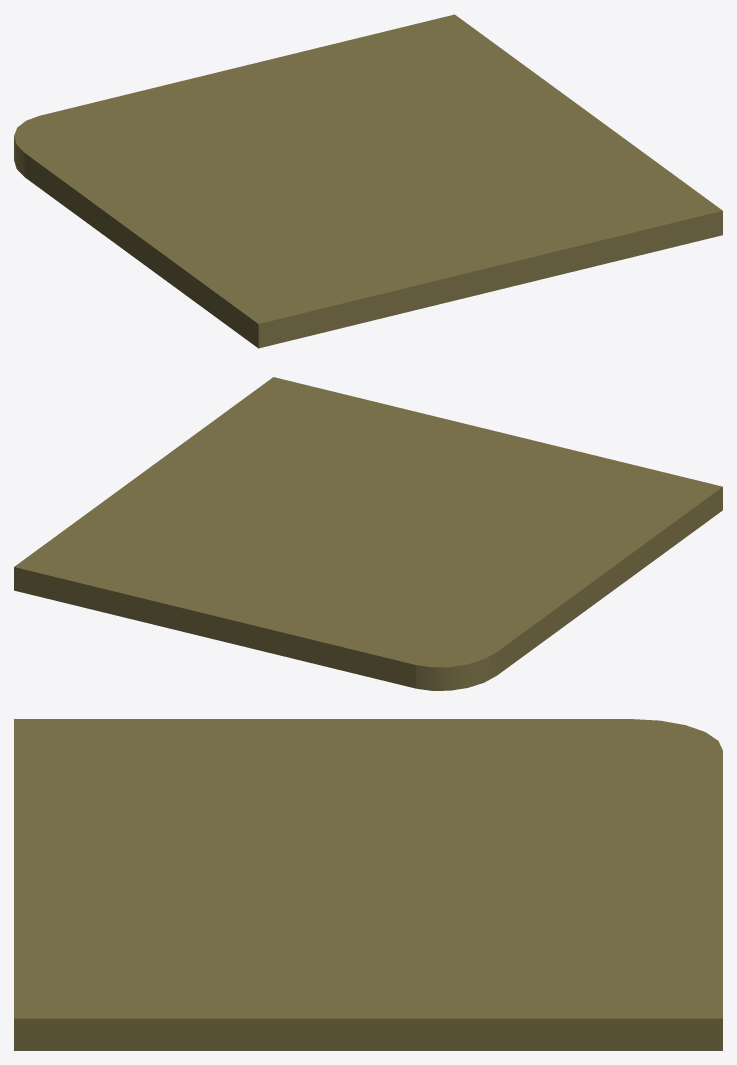
Rendered from Table_Border_01.fbx.
The picture shows the model from 3 angles, top to bottom: view 1: azimuth 30°, elevation 25°; view 2: azimuth 150°, elevation 25°; view 3: azimuth 270°, elevation 25°; orthographic projection. The views are drawn at different scales.
Parts seen in each view (by area): view 1: Table_Border_01; view 2: Table_Border_01; view 3: Table_Border_01.
Part boxes in pixels (bbox=[...]): Table_Border_01: bbox=[14, 14, 722, 348]; Table_Border_01: bbox=[14, 377, 722, 690]; Table_Border_01: bbox=[14, 719, 722, 1050].
Size of the model in its own units: 800 by 40.22 by 800.
